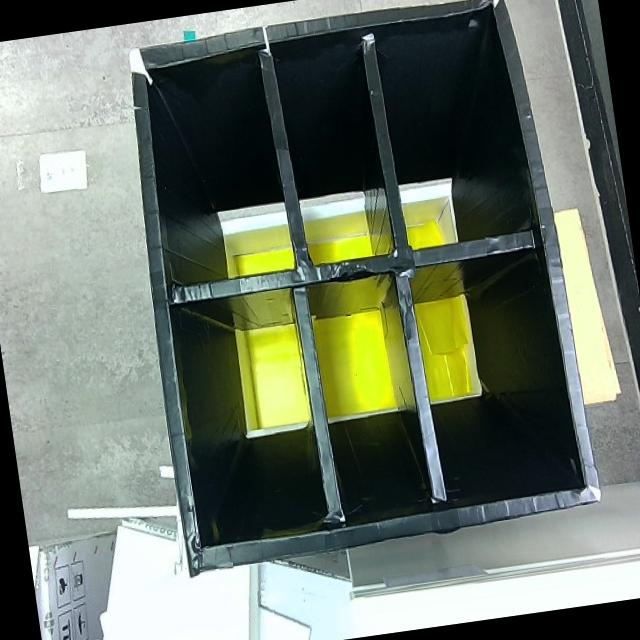box: (113, 0, 604, 574)
